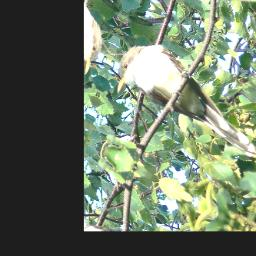Cuckoo: (110, 28, 256, 171)
